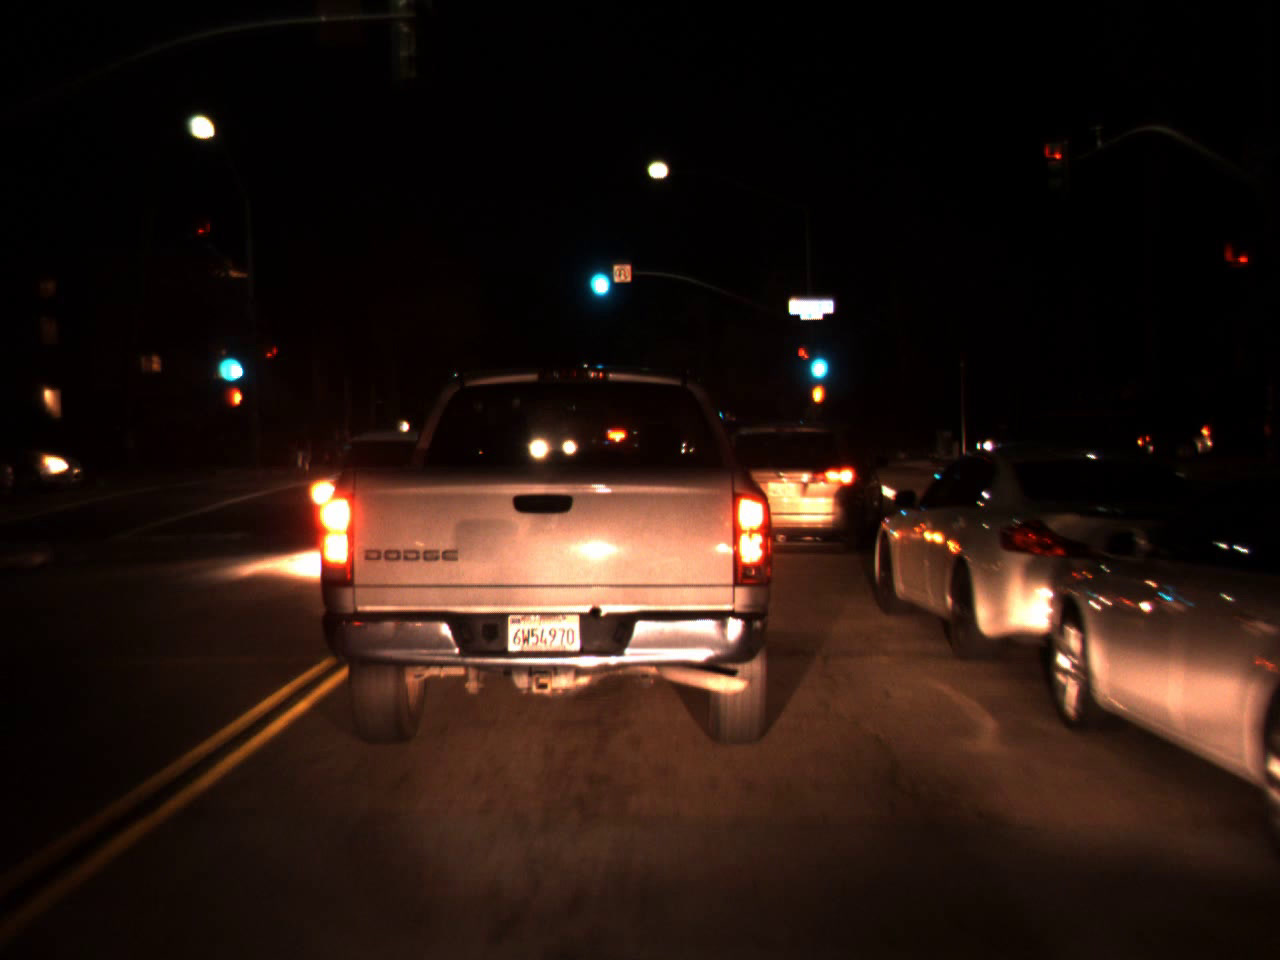go: (211, 330, 245, 390), (582, 244, 614, 304), (803, 333, 831, 387)
